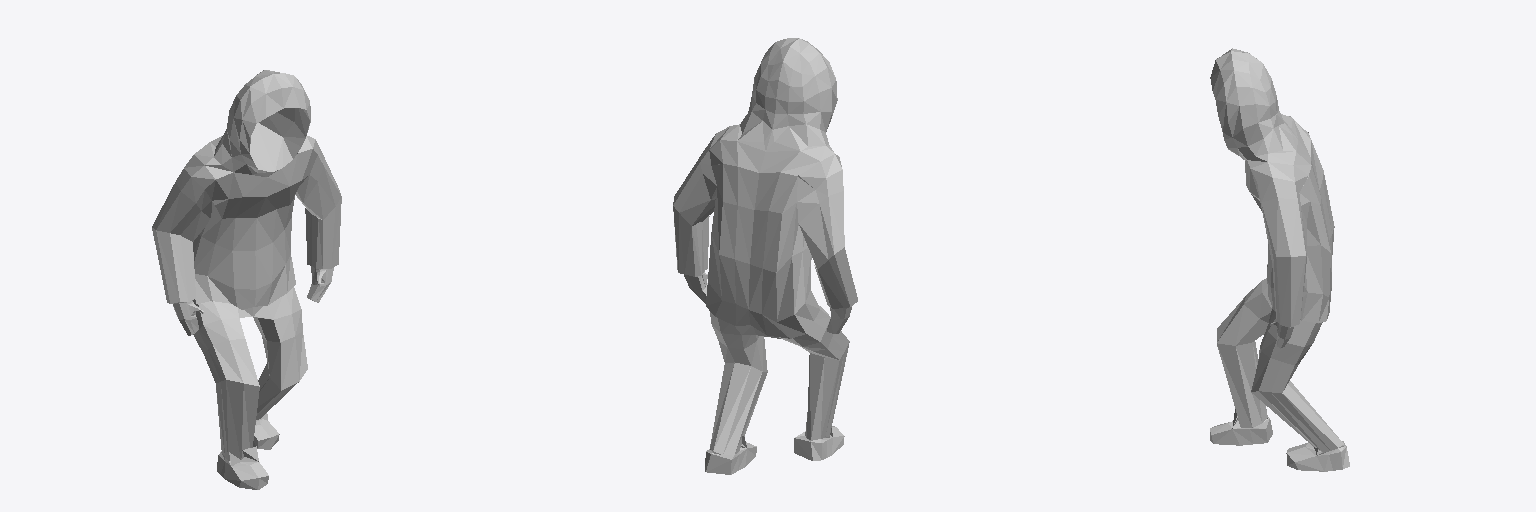
File: Shadowmanv_000043.obj
3 views of the same model, side by side, from view 1: azimuth 30°, elevation 25°; view 2: azimuth 150°, elevation 25°; view 3: azimuth 270°, elevation 25° (orthographic).
Parts seen in each view (by area): view 1: Cube.000; view 2: Cube.000; view 3: Cube.000.
Boxes of the visible parts, <box> form: Cube.000: <box>152,70,341,489</box>; Cube.000: <box>673,38,857,474</box>; Cube.000: <box>1210,48,1349,471</box>.
Bounding box in the file's own units: 4.99 × 10.88 × 3.44.